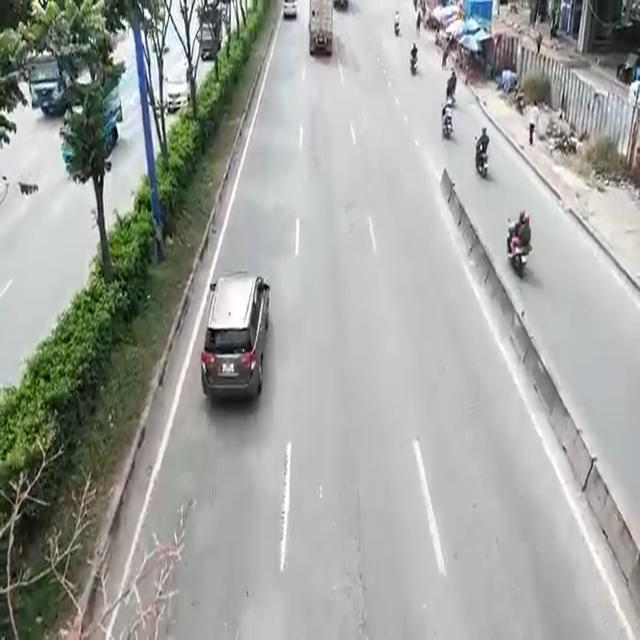car: (204, 269, 270, 406)
motor: (509, 215, 528, 285), (472, 136, 488, 176), (440, 107, 450, 146)
